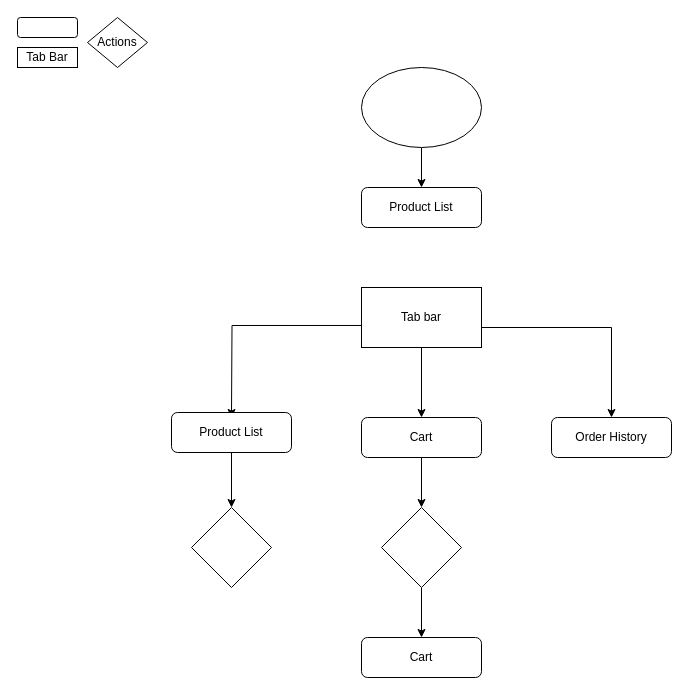
Some shapes in this 689 by 695 pixel diagram are drawn without their labels. Here are the shapes that lost their labels. From the top down, the centre of each, then its label:
[47,27]: Views
[421,107]: App Launch
[231,547]: Add Item
[421,547]: Checkout
